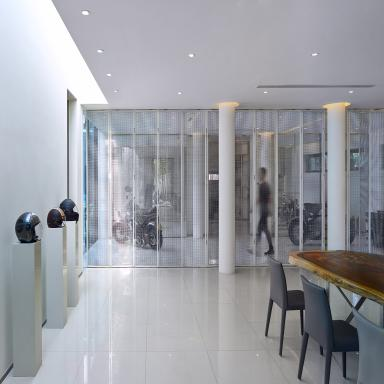glass_panel: (280, 111, 324, 254), (144, 112, 180, 254), (186, 110, 218, 264), (235, 111, 258, 257), (347, 111, 370, 249), (254, 129, 275, 256), (86, 114, 104, 258), (110, 135, 132, 246), (372, 111, 384, 252), (255, 168, 274, 256), (67, 93, 76, 278), (235, 137, 249, 224), (15, 213, 40, 242)
